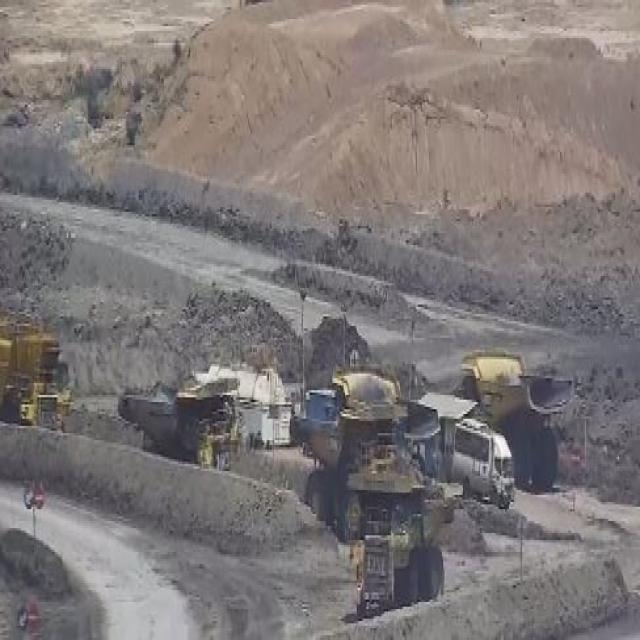dump_truck: (344, 470, 449, 623)
